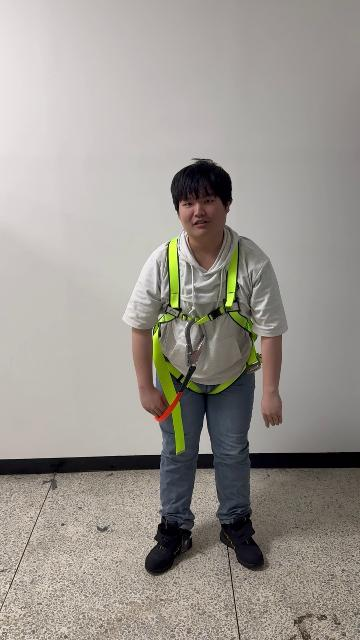helmet_not_worn: (169, 157, 234, 227)
shoe_worn: (145, 518, 193, 573), (220, 517, 264, 569)
vest_worn: (145, 236, 260, 447)
